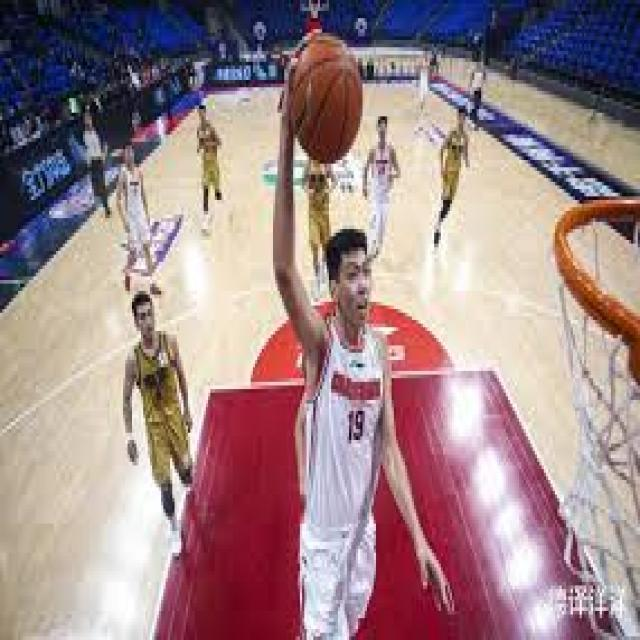rim: (288, 36, 362, 164)
